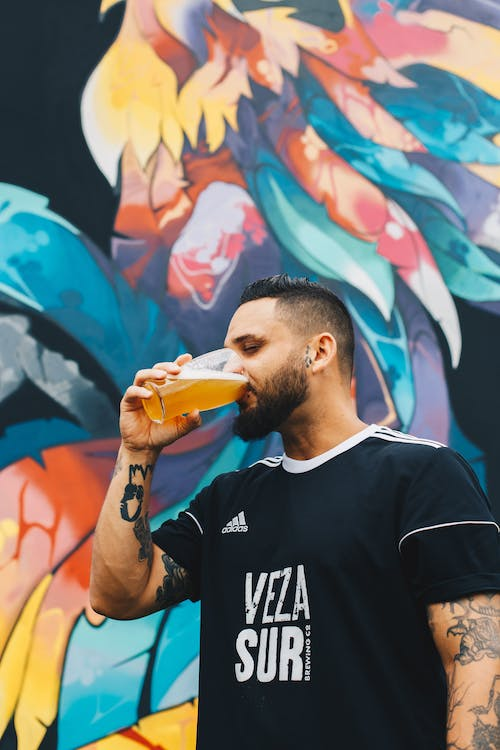alcohol: (140, 346, 249, 424)
